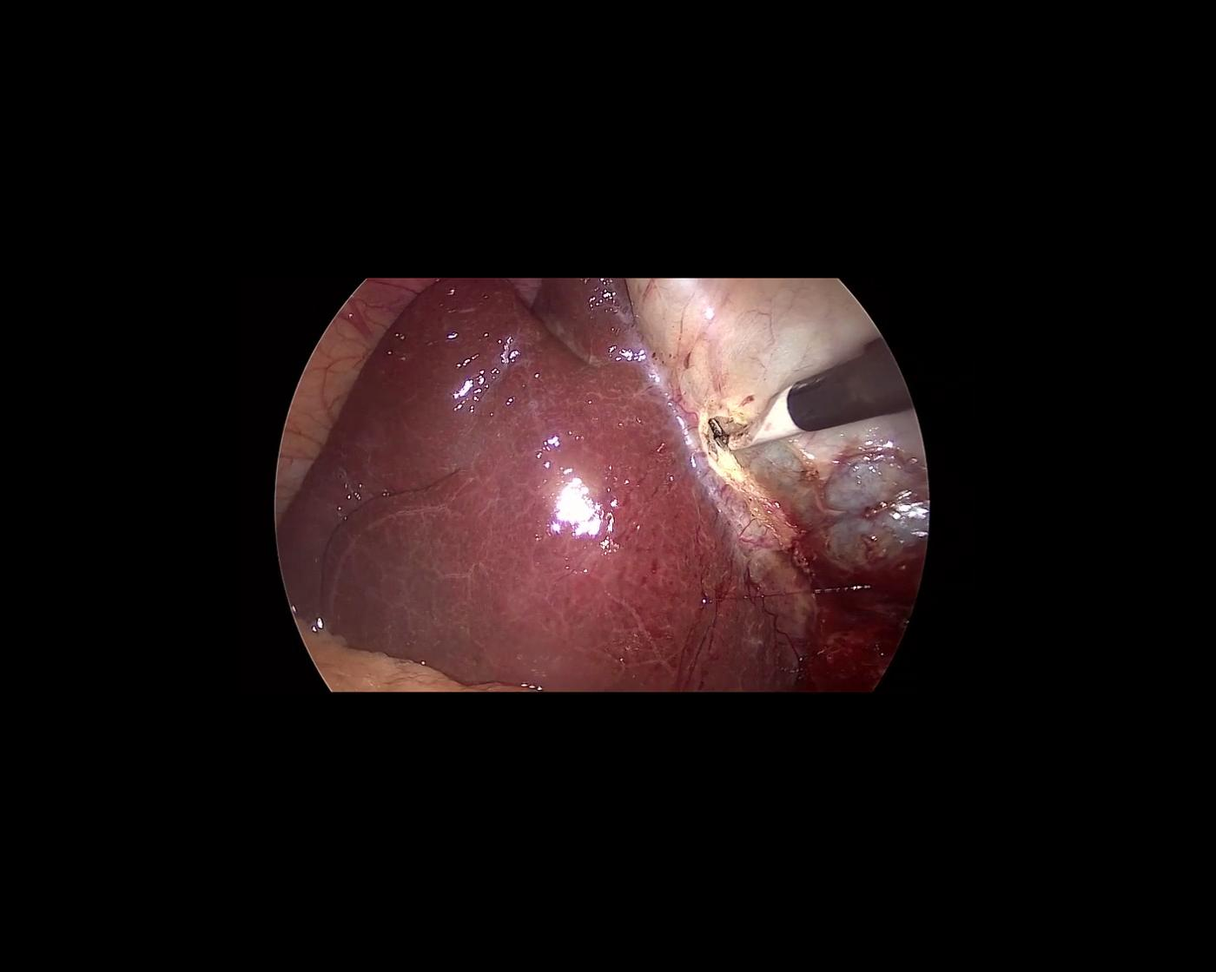Cautery: (706, 347, 911, 477)
Gallbladder: (604, 182, 998, 631)
Liver: (275, 278, 800, 692)
